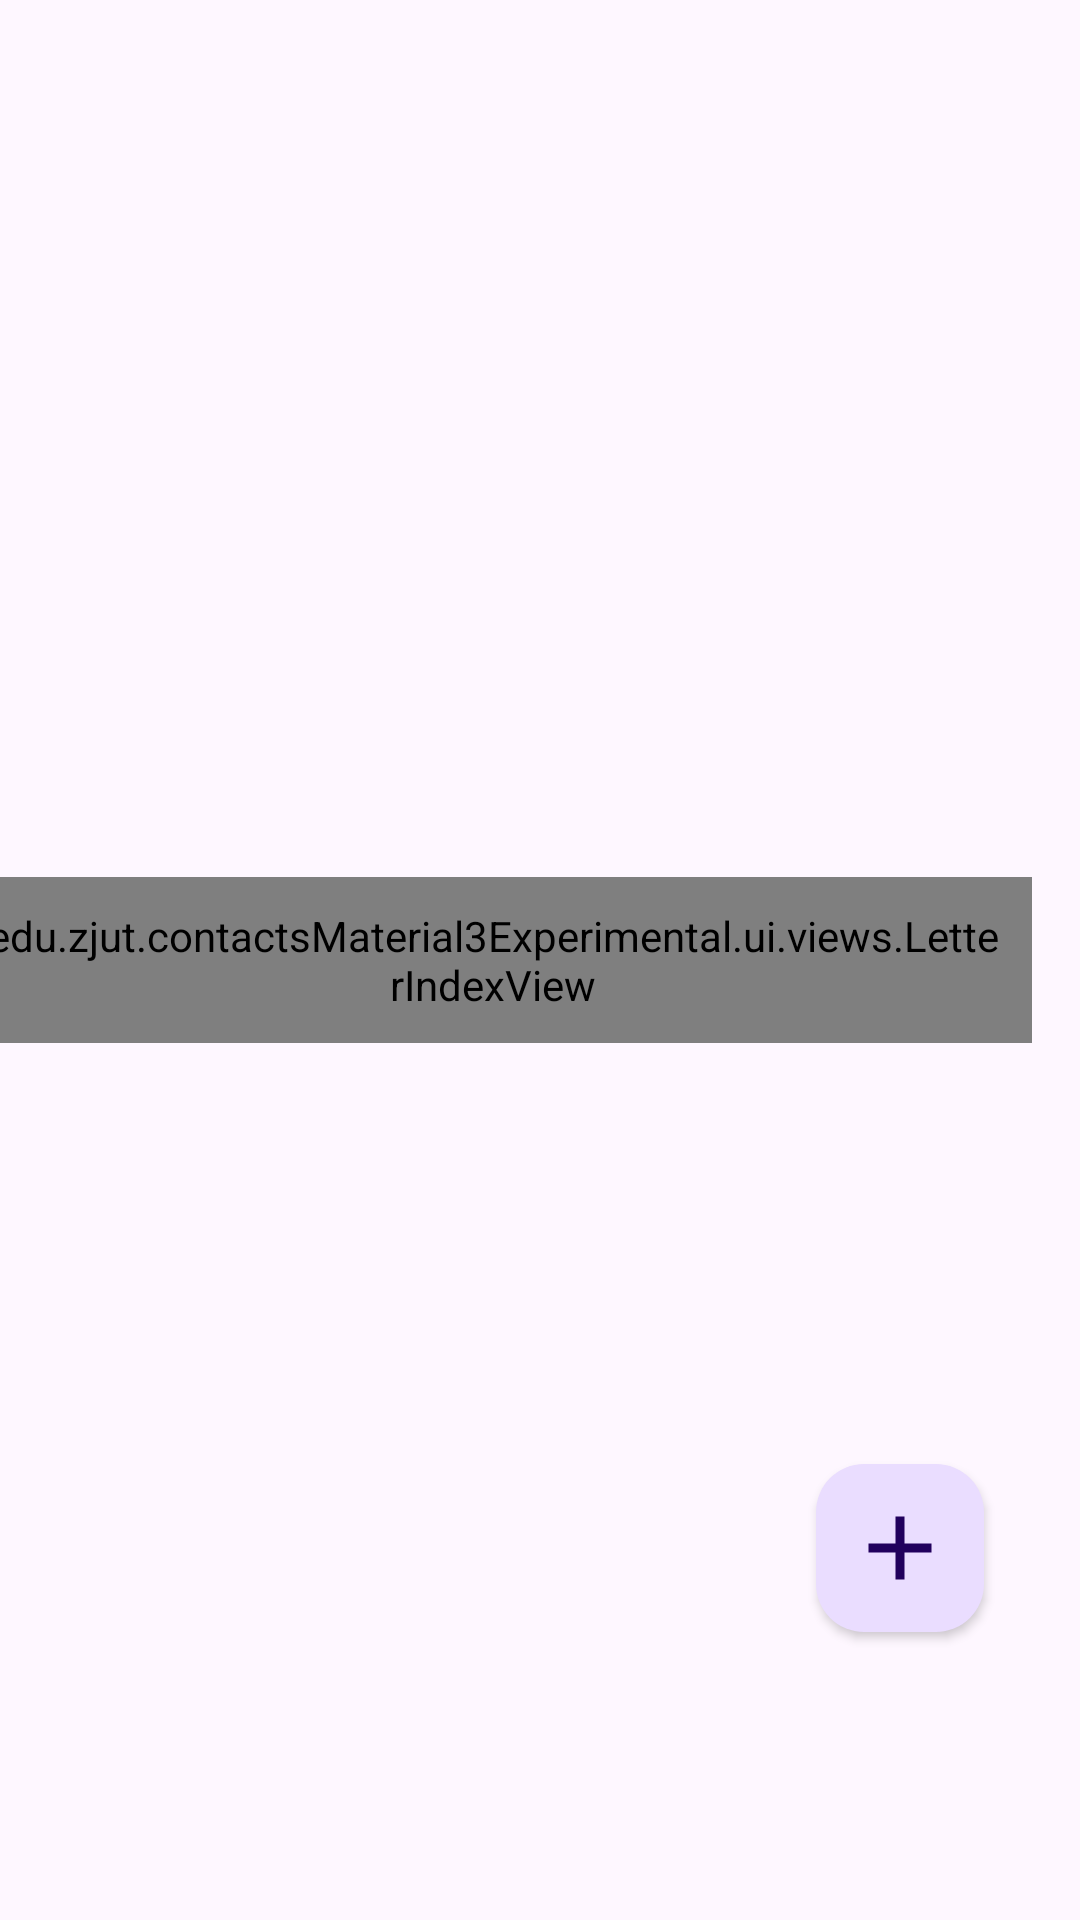

Screen size 1080×1920. Icon name, then its center in pixels as (x=x, y=y):
Add a contact: (x=900, y=1548)
